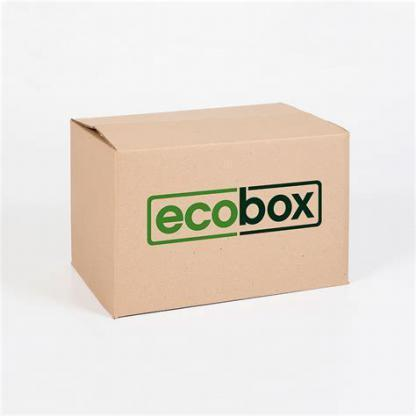box: (69, 102, 352, 321)
